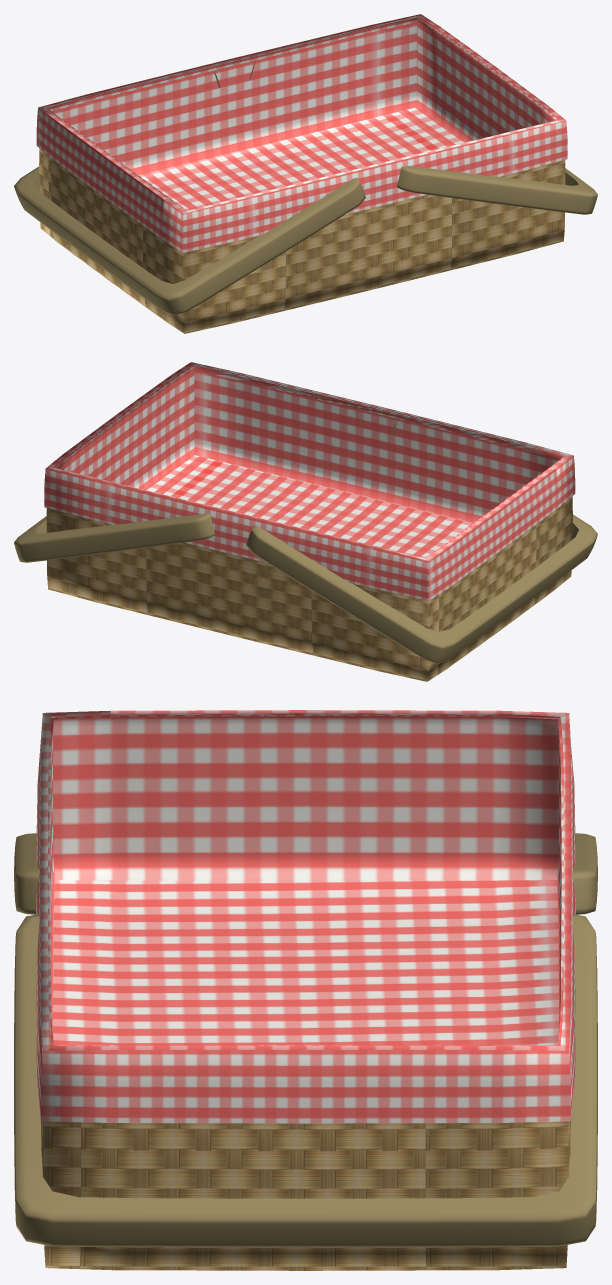
The model's file is picnicBasket.fbx.
3 renders of one model, top to bottom at view 1: azimuth 30°, elevation 25°; view 2: azimuth 150°, elevation 25°; view 3: azimuth 270°, elevation 25°, orthographic. The views are drawn at different scales.
Visible parts, largest first — view 1: picnicBasket; view 2: picnicBasket; view 3: picnicBasket.
Part boxes in pixels (x1,y1,x2,y2): picnicBasket: (14,14,597,333); picnicBasket: (14,362,597,681); picnicBasket: (14,710,597,1270).
Bounding box in the file's own units: 2.23 × 0.6161 × 1.42.
3 materials, 2 textured.
